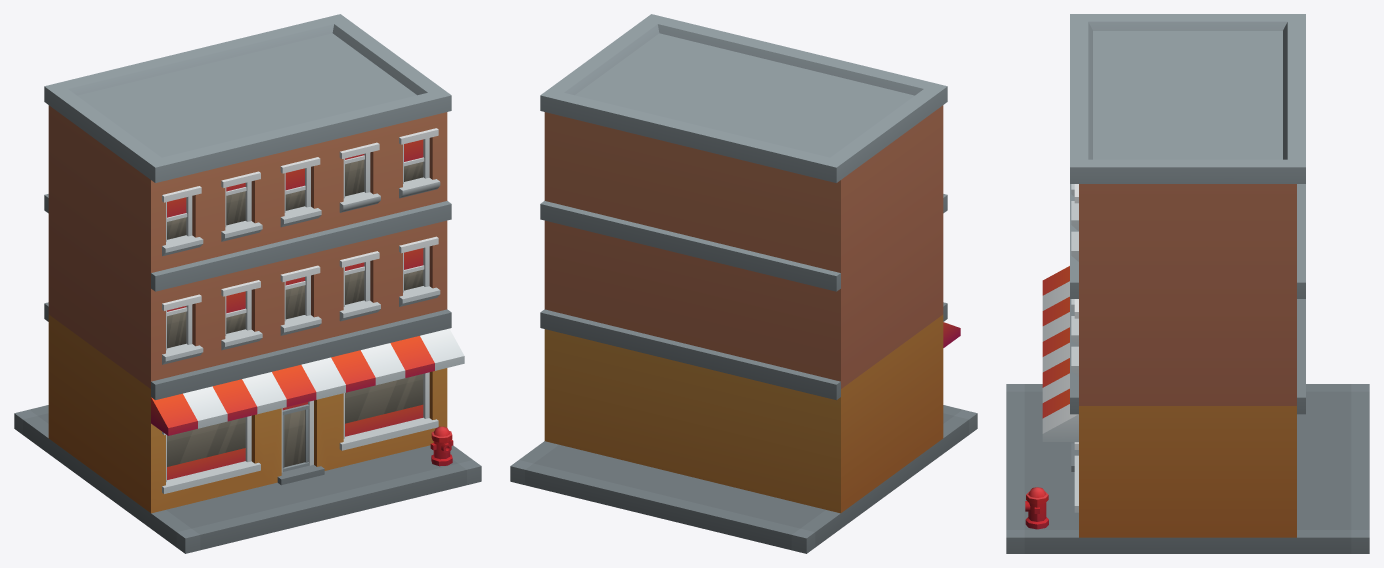
Rendered from Building.glb.
3 renders of one model, left to right at view 1: azimuth 30°, elevation 25°; view 2: azimuth 150°, elevation 25°; view 3: azimuth 270°, elevation 25°, orthographic. The views are drawn at different scales.
Visible parts, largest first — view 1: building_E; view 2: building_E; view 3: building_E.
Part boxes in pixels (x1,y1,x2,y2): building_E: [14, 14, 481, 553]; building_E: [510, 14, 977, 553]; building_E: [1006, 14, 1369, 553].
Size of the model in its own units: 2 by 2.35 by 2.
1 material, 1 textured.
